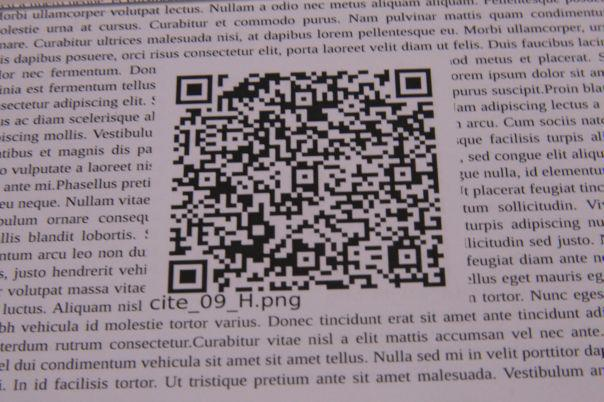Finder pattern: (166, 256, 213, 297), (395, 64, 437, 102), (173, 73, 215, 108)
